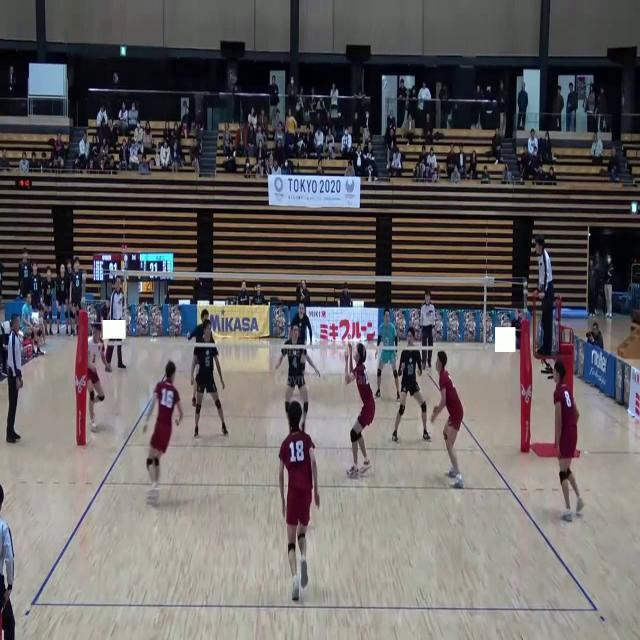volleyball: (266, 126, 274, 138)
